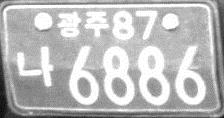6: (174, 44, 207, 107), (67, 44, 99, 106)
7: (134, 8, 159, 39)
8: (102, 44, 136, 107), (136, 44, 170, 106), (112, 10, 135, 42)
광주_O: (56, 10, 109, 38)
나: (16, 44, 54, 89)
